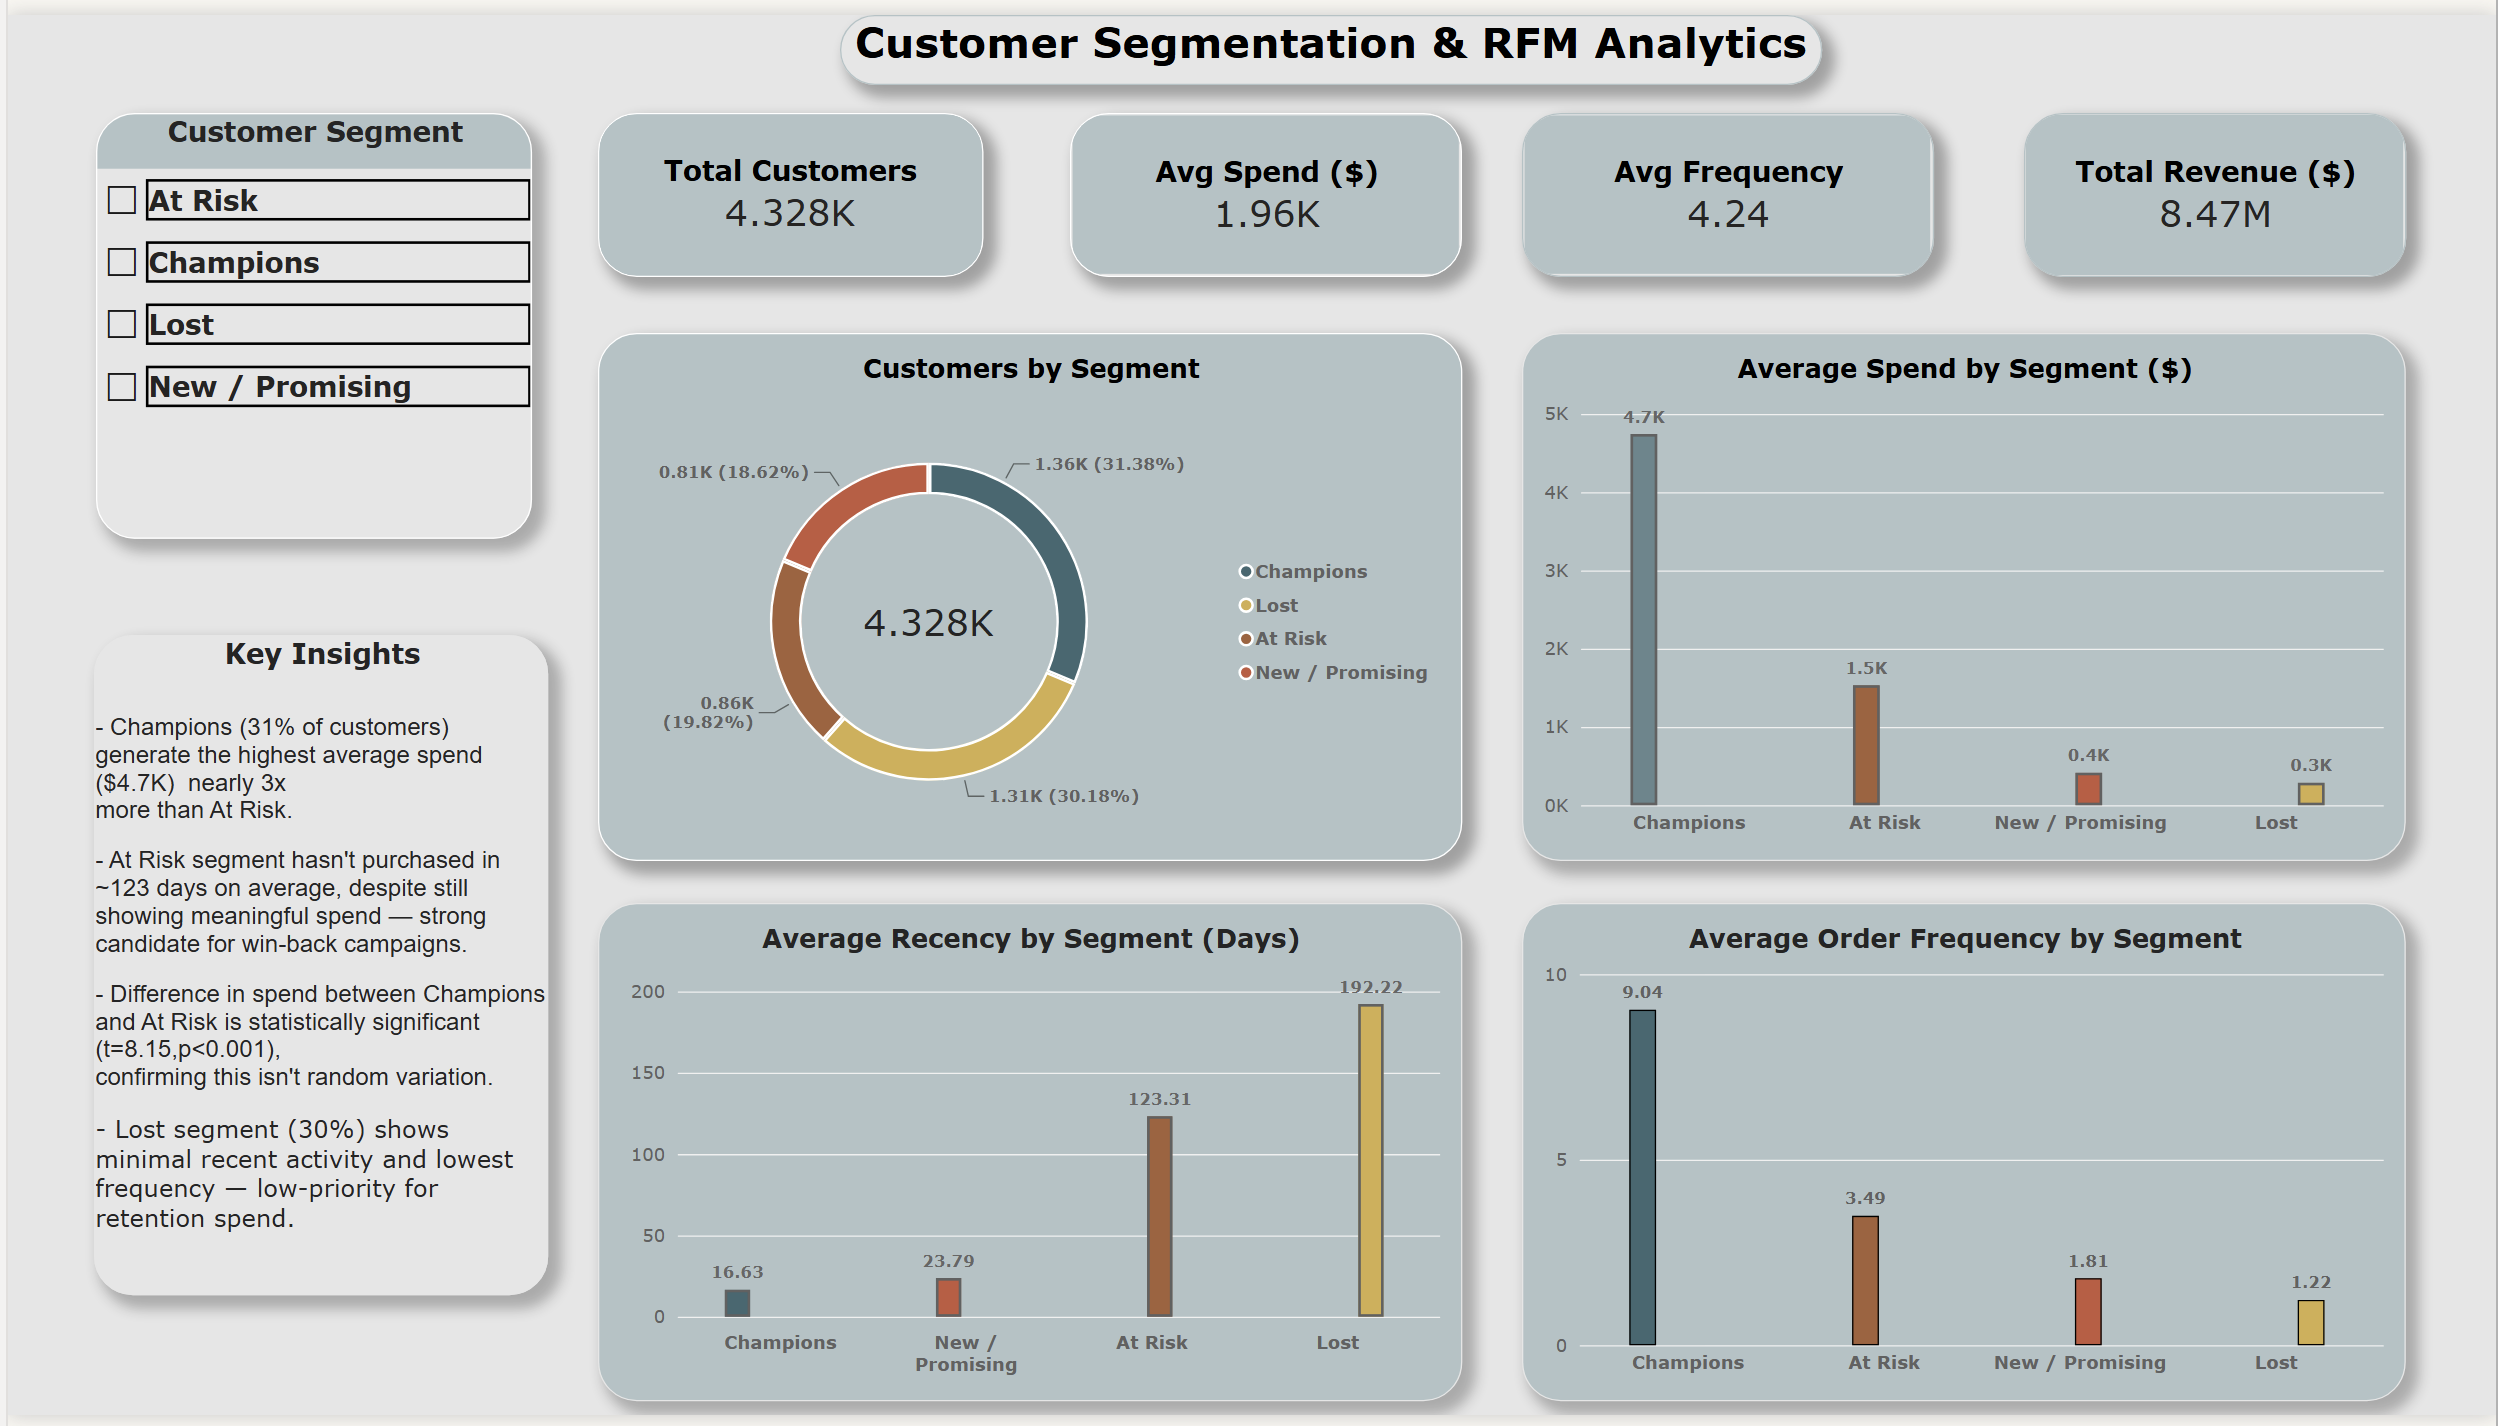

What the dashboard file says about the page in this screenshot:
{"tool":"powerbi","page":{"name":"Page 1","canvas":[1920,1080],"ordinal":0},"visuals":[{"type":"textbox","box":[642.1,0,757.8,54],"z":0},{"type":"cardVisual","fields":{"Data":["Count(customers_segments.customer_id)"]},"box":[455.3,75.6,297.5,126.6],"z":1000},{"type":"cardVisual","fields":{"Data":["Sum(customers_segments.monetary)"]},"box":[1555.8,75.6,294.8,126.6],"z":2000},{"type":"cardVisual","fields":{"Data":["Avg(customers_segments.monetary)"]},"box":[820.3,75.6,302.5,126.6],"z":3000},{"type":"cardVisual","fields":{"Data":["Avg(customers_segments.frequency)"]},"box":[1168.4,75.6,317.9,126.6],"z":4000},{"type":"slicer","title":"Customer Segment","fields":{"Values":["customers_segments.customer_segment"]},"box":[67.9,75.6,336.5,328.7],"z":5000},{"type":"donutChart","title":"Customers by Segment","fields":{"Category":["customers_segments.customer_segment"],"Y":["CountNonNull(customers_segments.customer_id)"]},"box":[455.3,245.4,666.8,407.5],"z":6000},{"type":"clusteredColumnChart","title":"Average Spend by Segment ($)","fields":{"Category":["customers_segments.customer_segment"],"Series":["customers_segments.customer_segment"],"Y":["Avg(customers_segments.monetary)"]},"box":[1168.4,245.4,682.2,407.5],"z":7000},{"type":"clusteredColumnChart","title":"Average Recency by Segment (Days)","fields":{"Category":["customers_segments.customer_segment"],"Series":["customers_segments.customer_segment"],"Y":["Avg(customers_segments.recency)"]},"box":[455.3,685.3,666.8,384.3],"z":8000},{"type":"clusteredColumnChart","title":"Average Order Frequency by Segment","fields":{"Category":["customers_segments.customer_segment"],"Series":["customers_segments.customer_segment"],"Y":["Avg(customers_segments.frequency)"]},"box":[1168.4,685.3,682.2,384.3],"z":9000},{"type":"textbox","title":"Key Insights","box":[66.4,478.5,350.4,509.3],"z":10000}]}

Visuals, with their boxes in screenshot pixels (x1, y1, x2, y2), scaled from the page's 1920x1080 canvas onto the 2498x1426 screenshot:
textbox: {"left": 835, "top": 0, "right": 1821, "bottom": 71}
cardVisual - Count(customers_segments.customer_id): {"left": 592, "top": 100, "right": 979, "bottom": 267}
cardVisual - Sum(customers_segments.monetary): {"left": 2024, "top": 100, "right": 2408, "bottom": 267}
cardVisual - Avg(customers_segments.monetary): {"left": 1067, "top": 100, "right": 1461, "bottom": 267}
cardVisual - Avg(customers_segments.frequency): {"left": 1520, "top": 100, "right": 1934, "bottom": 267}
"Customer Segment" slicer: {"left": 88, "top": 100, "right": 526, "bottom": 534}
"Customers by Segment" donutChart: {"left": 592, "top": 324, "right": 1460, "bottom": 862}
"Average Spend by Segment ($)" clusteredColumnChart: {"left": 1520, "top": 324, "right": 2408, "bottom": 862}
"Average Recency by Segment (Days)" clusteredColumnChart: {"left": 592, "top": 905, "right": 1460, "bottom": 1412}
"Average Order Frequency by Segment" clusteredColumnChart: {"left": 1520, "top": 905, "right": 2408, "bottom": 1412}
"Key Insights" textbox: {"left": 86, "top": 632, "right": 542, "bottom": 1304}
